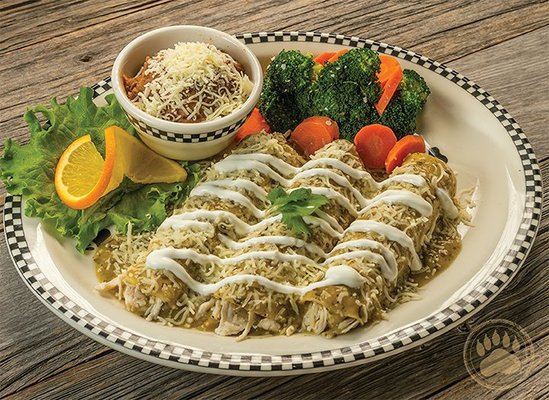curry: (257, 47, 430, 142)
sushi: (112, 25, 263, 162)
taco: (54, 127, 183, 211)
